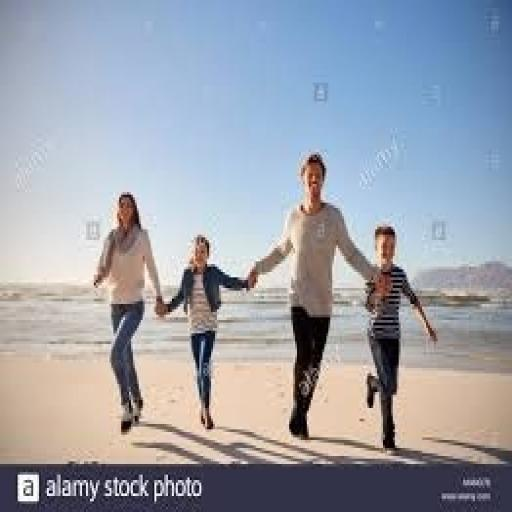running: (244, 149, 391, 443), (152, 232, 258, 435), (90, 189, 168, 435), (362, 221, 442, 456)
